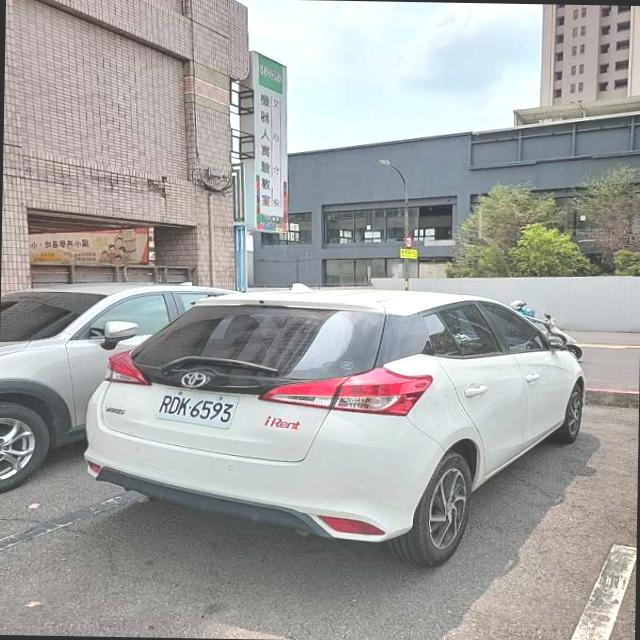license plate: (155, 388, 238, 428)
wheel: (388, 450, 471, 566)
